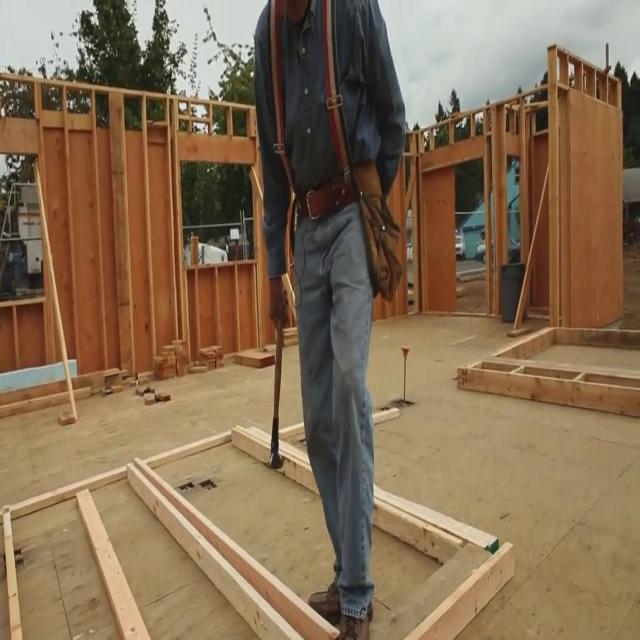hammer: (260, 323, 285, 470)
